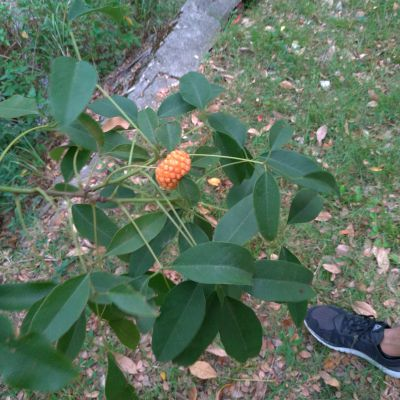eggs: (149, 145, 196, 190)
